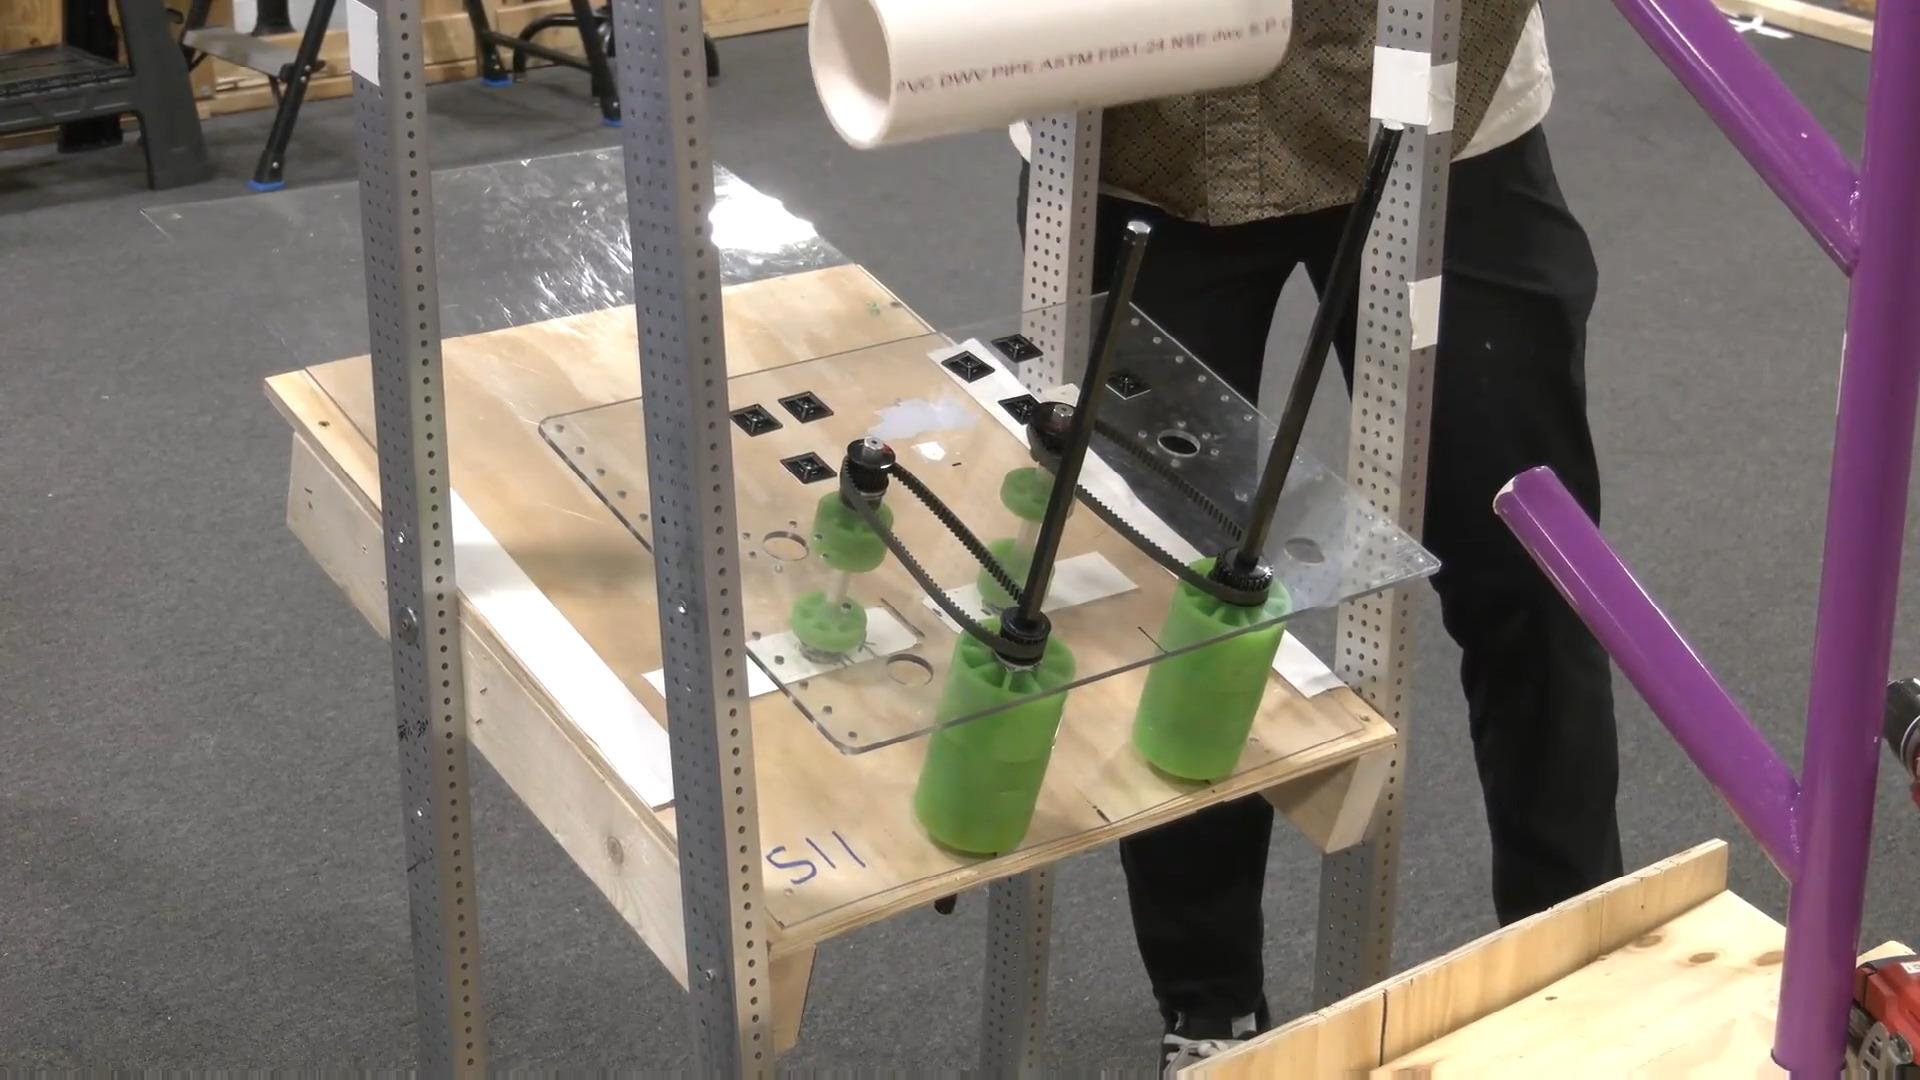coral: (803, 0, 1292, 150)
